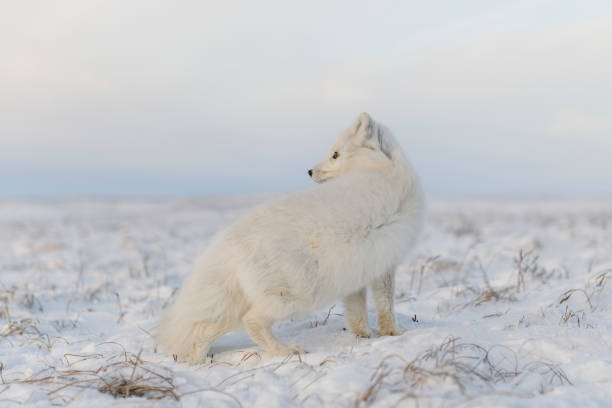arcticfox: (302, 136, 367, 201)
